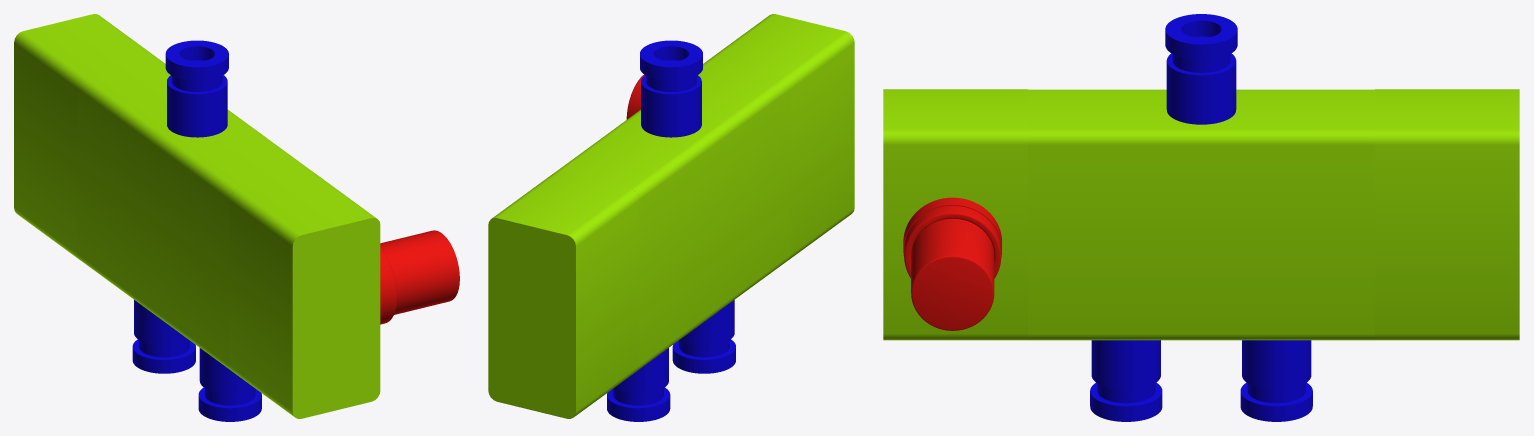
File: Button.fbx
The picture shows the model from 3 angles, left to right: view 1: azimuth 30°, elevation 25°; view 2: azimuth 150°, elevation 25°; view 3: azimuth 270°, elevation 25°; orthographic projection. The views are drawn at different scales.
Parts seen in each view (by area): view 1: Body, RacorB, Regulador, RacorA, RacorC, BodyB; view 2: Body, RacorB, RacorA, RacorC, Regulador; view 3: Body, Regulador, RacorB, RacorA, RacorC, BodyB.
Boxes of the visible parts, x1,y1,x2,y2 form: Body: [14, 14, 380, 418]; RacorB: [165, 40, 228, 137]; Regulador: [380, 230, 459, 314]; RacorA: [198, 348, 261, 421]; RacorC: [132, 300, 195, 373]; BodyB: [380, 248, 396, 324]; Body: [488, 14, 854, 418]; RacorB: [640, 40, 702, 137]; RacorA: [672, 300, 735, 373]; RacorC: [607, 348, 670, 421]; Regulador: [626, 74, 644, 119]; Body: [883, 89, 1519, 340]; Regulador: [911, 219, 994, 330]; RacorB: [1165, 14, 1237, 124]; RacorA: [1090, 340, 1162, 421]; RacorC: [1240, 340, 1312, 421]; BodyB: [903, 197, 1001, 278].
Bounding box in the file's own units: 0.41 × 0.72 × 1.1.
